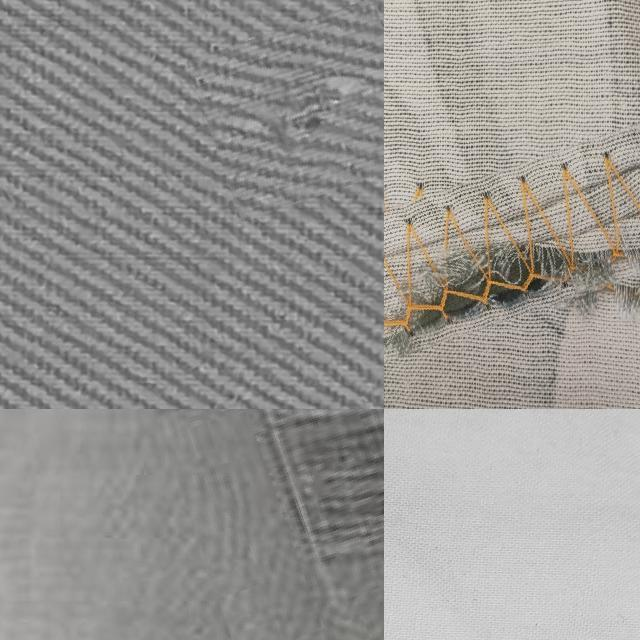Stitch: (384, 117, 640, 361)
Thread_other: (147, 409, 384, 640)
seam: (197, 10, 384, 207)
